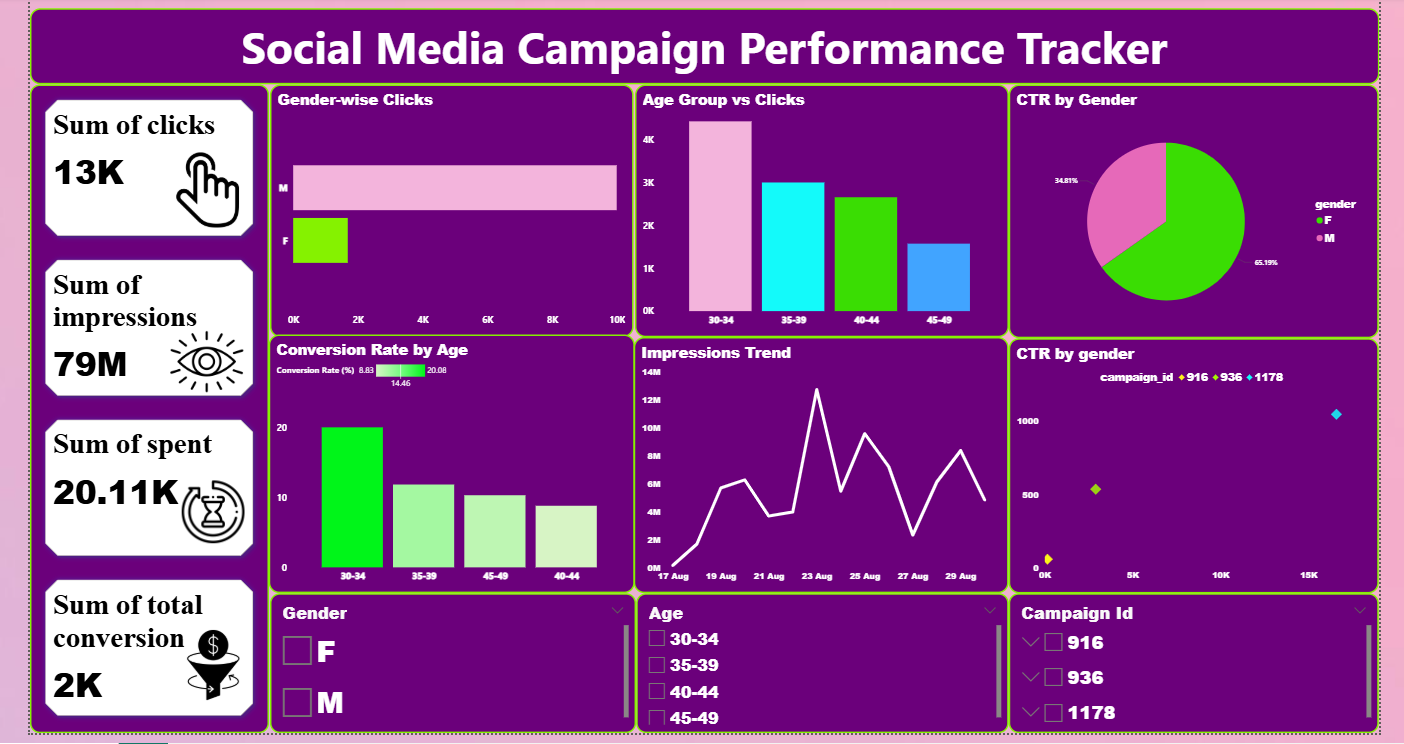

This screenshot's page, from the dashboard's own definition file:
{"tool":"powerbi","page":{"name":"Dashboard","canvas":[2200,1200],"ordinal":0},"visuals":[{"type":"textbox","box":[0,18.6,2200,123.8],"z":0},{"type":"cardVisual","fields":{"Data":["Sum(data.clicks)","Sum(data.impressions)","Sum(data.spent)","Sum(data.total_conversion)"]},"box":[0,142.7,389.3,1057.8],"z":1000},{"type":"clusteredBarChart","title":" Gender-wise Clicks","fields":{"Y":["Sum(data.clicks)"],"Category":["data.gender"]},"box":[391.3,142.7,593.1,411.7],"z":2000},{"type":"pieChart","title":"CTR by Gender","fields":{"Y":["data.CTR (%)"],"Category":["data.gender"]},"box":[1595.8,142.7,603.3,413.7],"z":3000},{"type":"clusteredColumnChart","title":"Age Group vs Clicks","fields":{"Category":["data.age"],"Y":["Sum(data.clicks)"]},"box":[986.4,142.7,609.4,411.7],"z":4000},{"type":"scatterChart","title":"CTR by gender","fields":{"X":["Sum(data.spent)"],"Y":["Sum(data.total_conversion)"],"Series":["data.campaign_id"]},"box":[1595.8,556.4,603.3,415.8],"z":5000},{"type":"clusteredColumnChart","title":"Conversion Rate by Age","fields":{"Y":["data.Conversion Rate (%)"],"Category":["data.age"]},"box":[389.3,550.3,597.1,421.9],"z":6000},{"type":"lineChart","title":"Impressions Trend","fields":{"Y":["Sum(data.impressions)"],"Category":["data.reporting_start.Variation.Date Hierarchy.Year","data.reporting_start.Variation.Date Hierarchy.Quarter","data.reporting_start.Variation.Date Hierarchy.Month","data.reporting_start.Variation.Date Hierarchy.Day"]},"box":[984.4,554.4,611.4,417.8],"z":7000},{"type":"image","box":[216,248.6,146.7,132.5],"z":8000},{"type":"image","box":[242.5,782.6,112.1,114.1],"z":9000},{"type":"image","box":[226.2,1027.2,144.7,124.3],"z":10000},{"type":"image","box":[222.1,515.6,132.5,156.9],"z":11000},{"type":"image","box":[599.2,1031.3,118.2,120.2],"z":12000},{"type":"image","box":[821.3,1025.1,120.2,126.4],"z":13000},{"type":"slicer","fields":{"Values":["data.gender"]},"box":[391.3,972.2,597.1,228.3],"z":14000},{"type":"slicer","fields":{"Values":["data.age"]},"box":[988.5,972.2,607.3,228.3],"z":15000},{"type":"slicer","fields":{"Values":["data.campaign_id","data.fb_campaign_id"]},"box":[1595.8,972.2,603.3,228.3],"z":16000}]}

Visuals, with their boxes in screenshot pixels (x1, y1, x2, y2), scaled from the page's 2200x1200 canvas onto the 1404x744 screenshot:
textbox: 0,12,1403,88
cardVisual - Sum(data.clicks) x Sum(data.impressions): 0,88,248,743
" Gender-wise Clicks" clusteredBarChart: 250,88,628,344
"CTR by Gender" pieChart: 1018,88,1403,345
"Age Group vs Clicks" clusteredColumnChart: 630,88,1018,344
"CTR by gender" scatterChart: 1018,345,1403,603
"Conversion Rate by Age" clusteredColumnChart: 248,341,630,603
"Impressions Trend" lineChart: 628,344,1018,603
image: 138,154,231,236
image: 155,485,226,556
image: 144,637,237,714
image: 142,320,226,417
image: 382,639,458,714
image: 524,636,601,714
slicer - data.gender: 250,603,631,743
slicer - data.age: 631,603,1018,743
slicer - data.campaign_id x data.fb_campaign_id: 1018,603,1403,743
